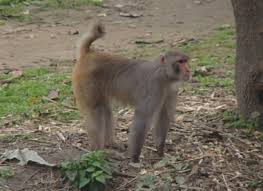monkey: (39, 20, 234, 151)
